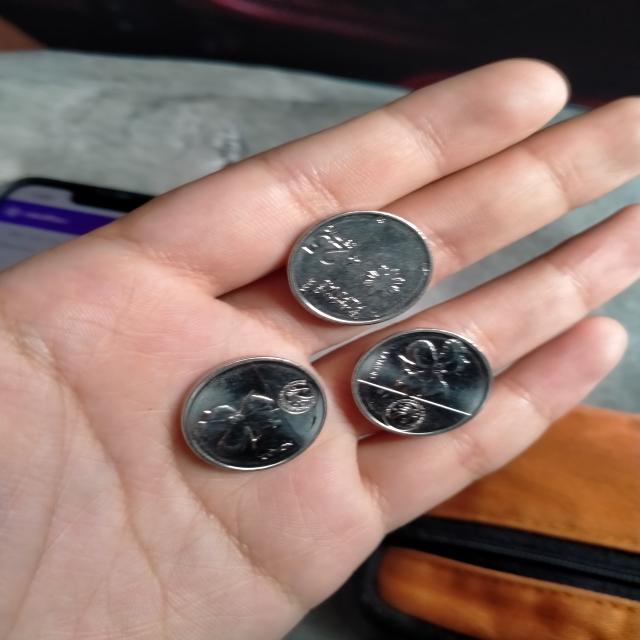25Cent_New_Front: (296, 218, 355, 270)
